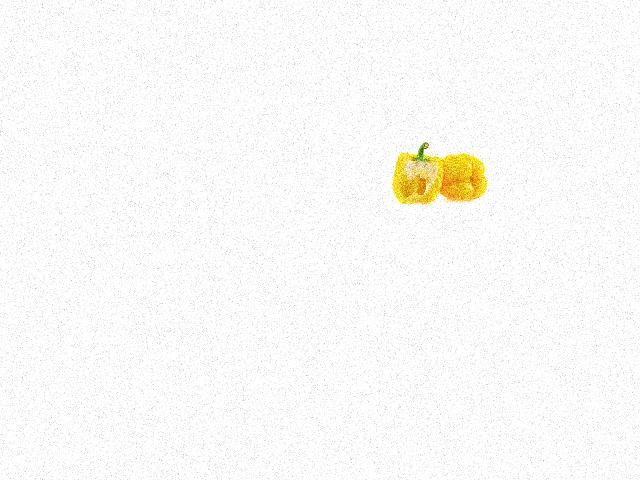bell_pepper: (389, 141, 452, 216)
